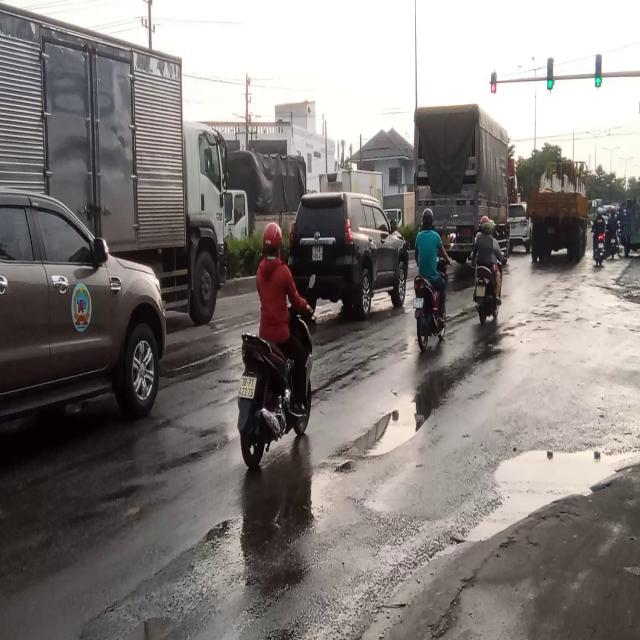bien_trang: (236, 374, 259, 404), (310, 244, 324, 265)
